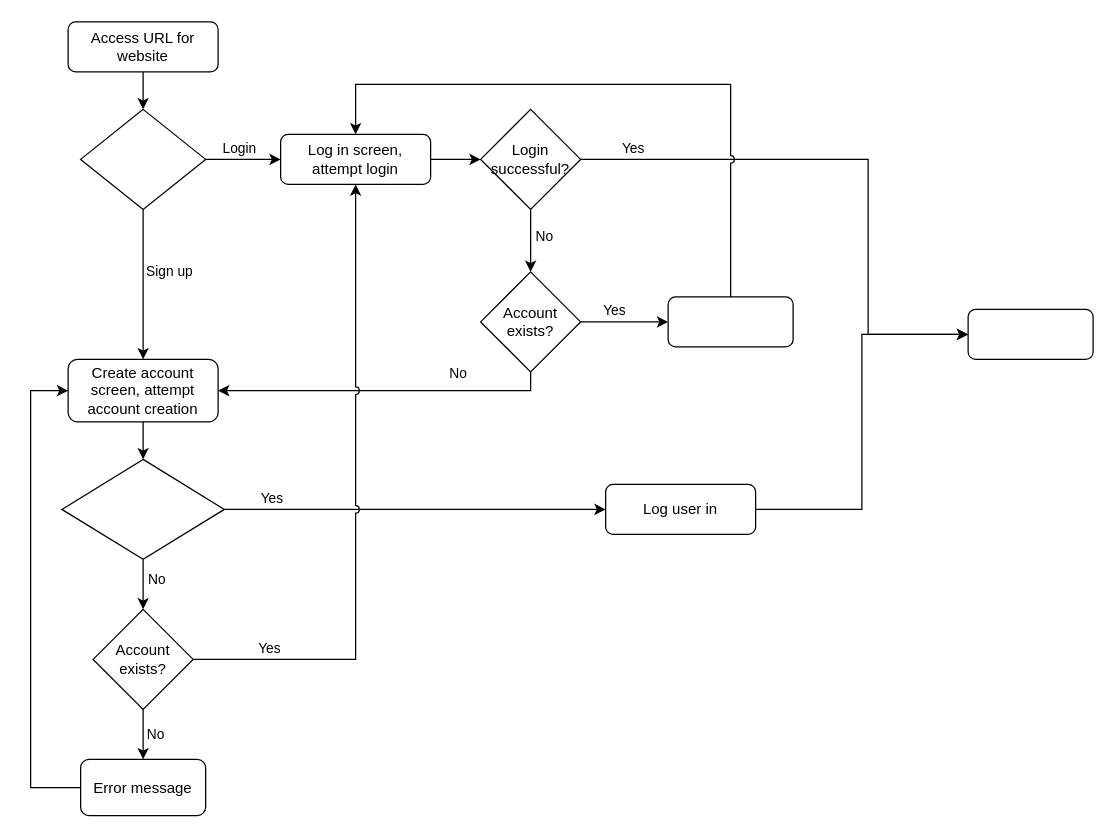
This 1115x838 diagram has some shape labels left out. Each missing label, with the centre of its shape:
Account creation successful?: [142,508]
Game screen: [1030,333]
Initial screen: [142,158]
Wrong password error: [730,321]
